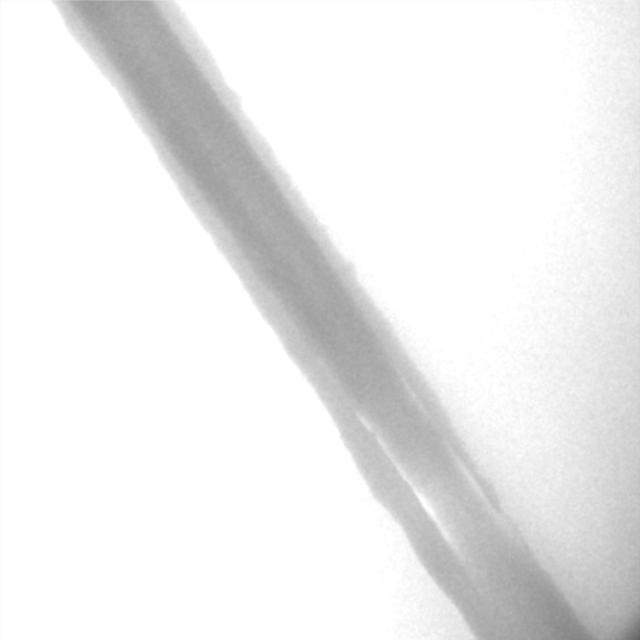unfused: (358, 385, 503, 556)
